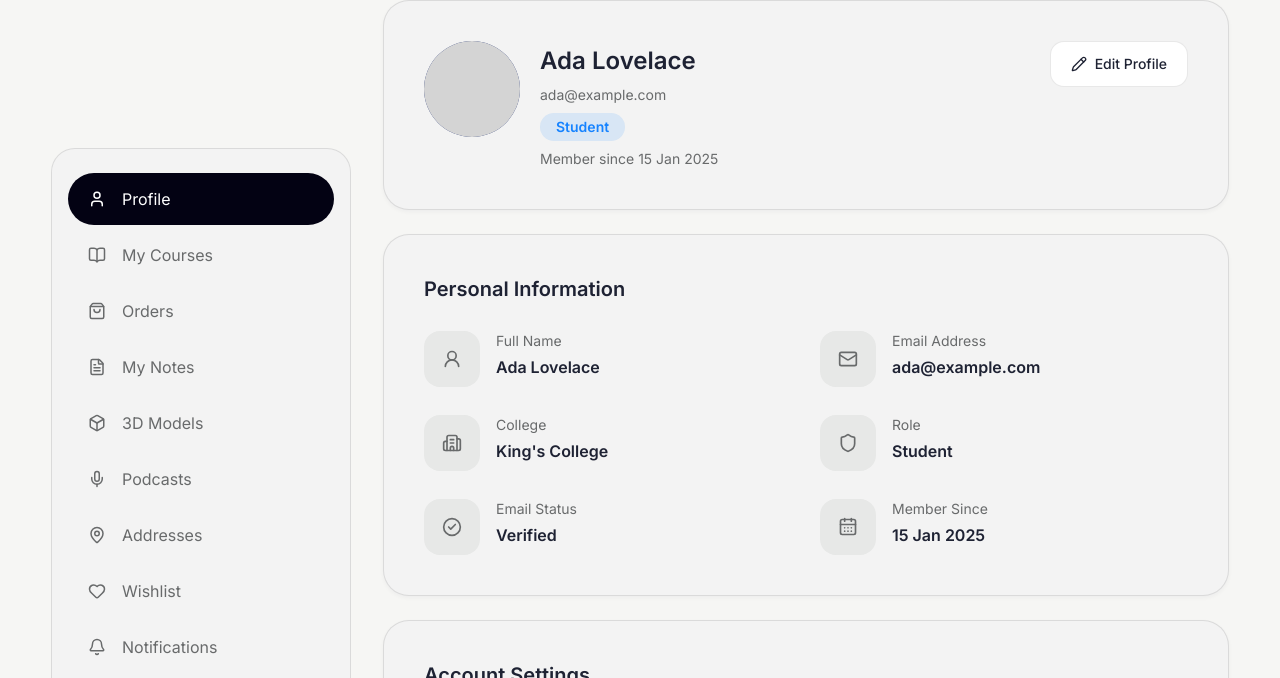
Test: navigation › switches to the My Notes section instead of only highlighting it
Click the button "My Notes": point(158, 367) [68,341,334,393]
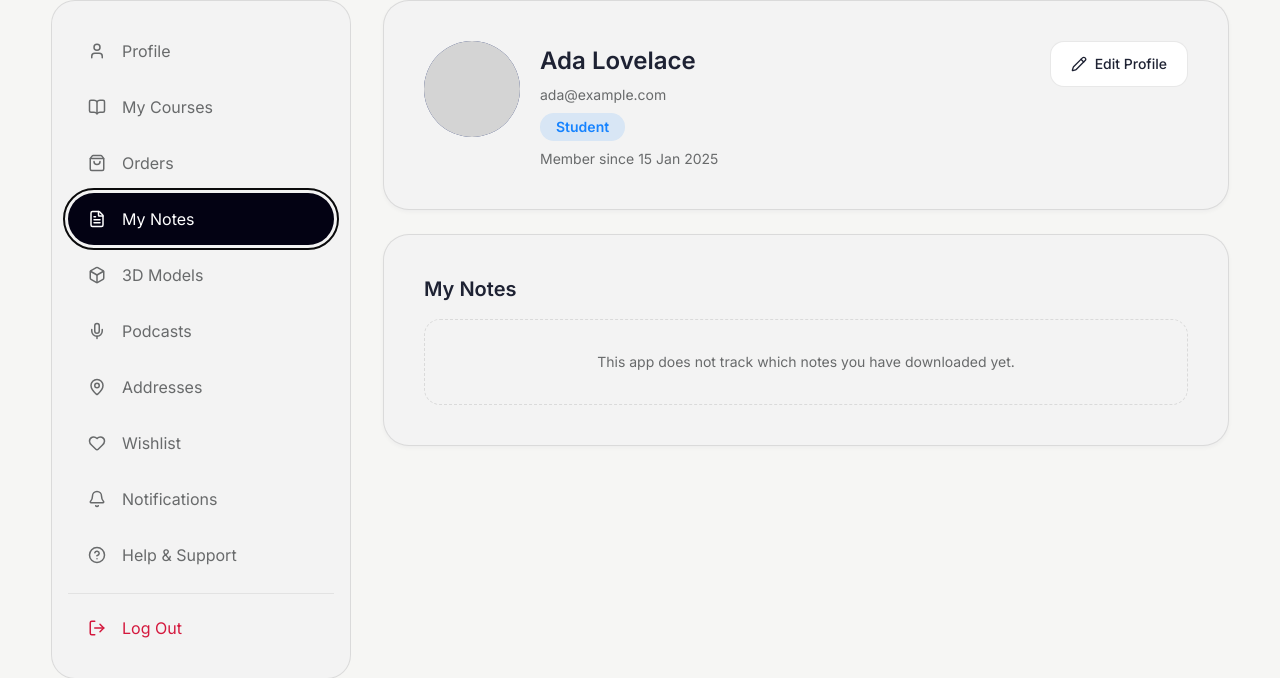
Now the heading "My Notes" is shown, box [424,277,516,301]
